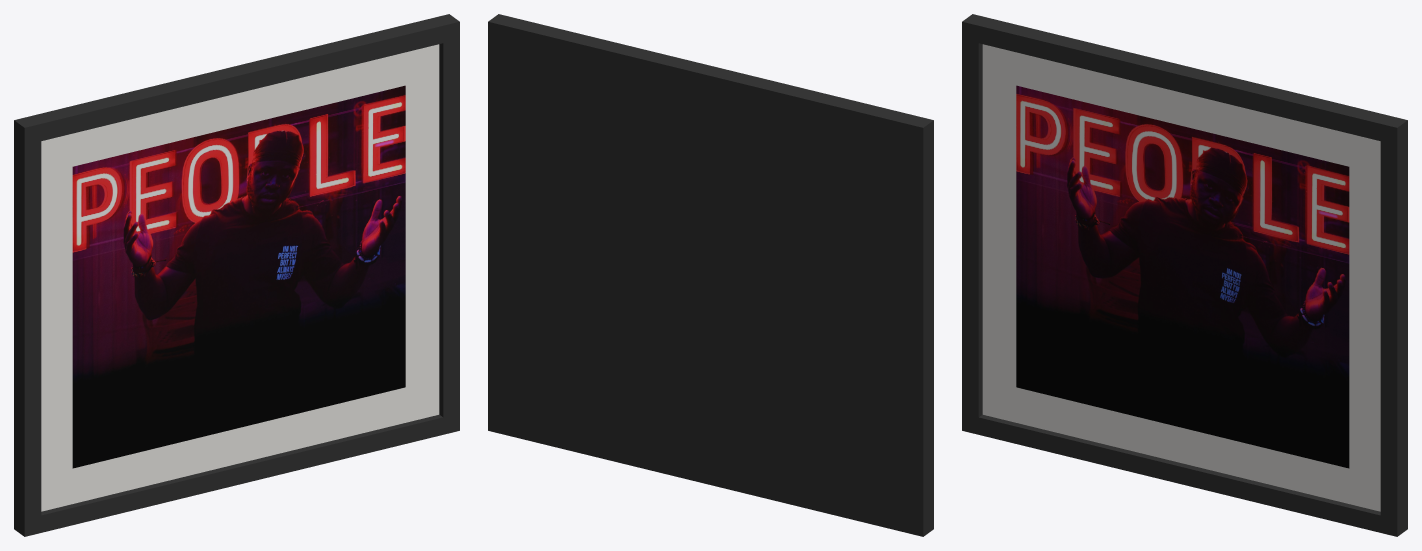
File: people-40.gltf
3 renders of one model, left to right at view 1: azimuth 30°, elevation 25°; view 2: azimuth 150°, elevation 25°; view 3: azimuth 330°, elevation 25°, orthographic.
Visible parts, largest first — view 1: tavla; view 2: tavla; view 3: tavla.
Part boxes in pixels (x1,y1,x2,y2): tavla: [14, 14, 459, 536]; tavla: [488, 14, 933, 536]; tavla: [962, 14, 1407, 536].
Bounding box in the file's own units: 0.5232 × 0.4699 × 0.022.
3 materials, 1 textured.
